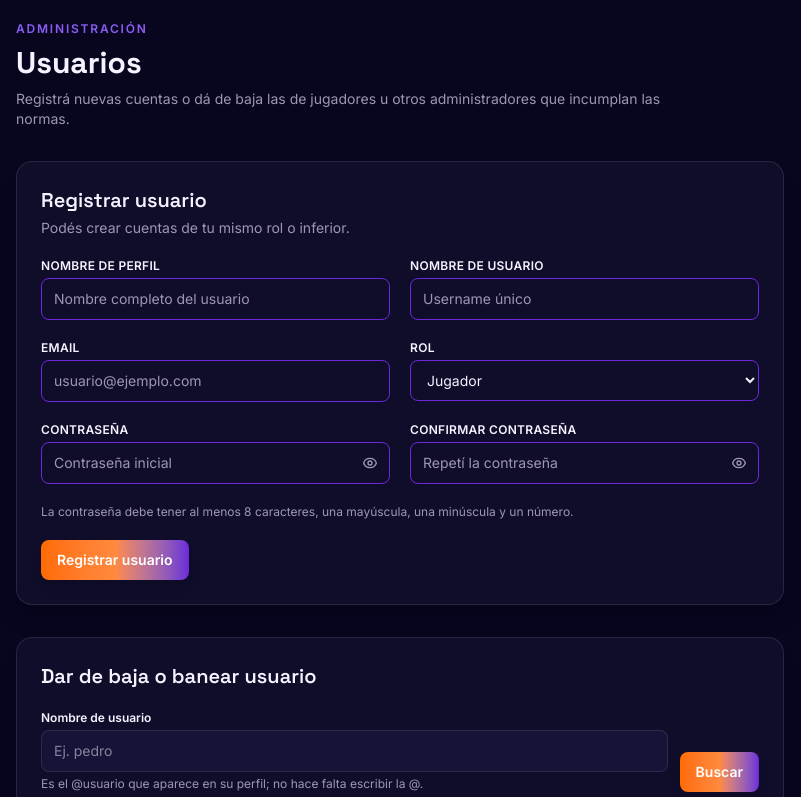
Test: UsuariosPage - US 50 Eliminar cuenta de usuario › avisa si no existe un usuario activo con ese nombre de usuario
Type "pedr" into the field labelled "Nombre de usuario" at point(354, 751), box [41, 730, 668, 772]
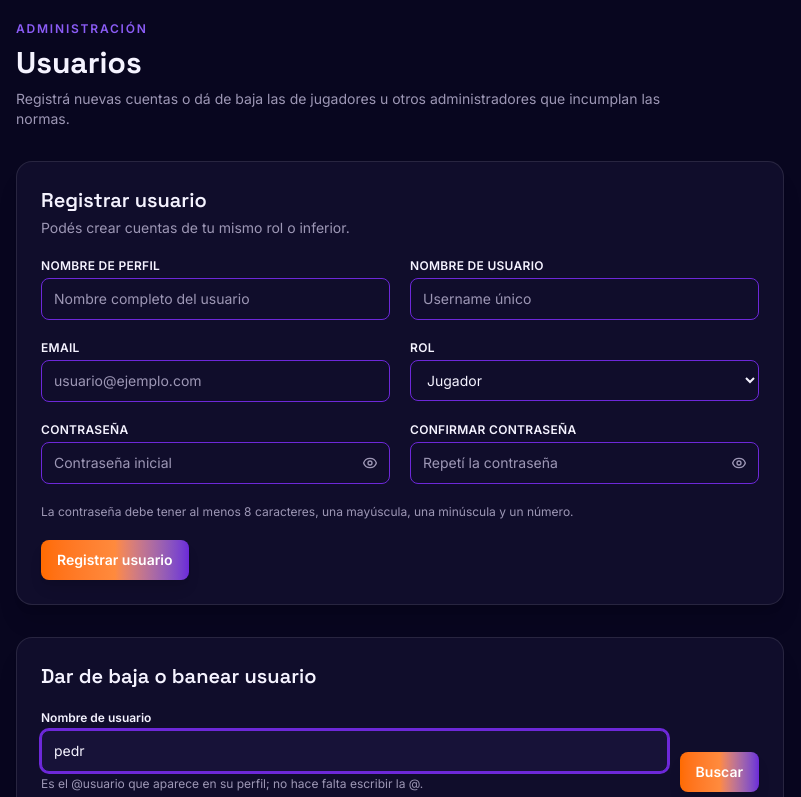
Click the button "Buscar" at point(719, 772), box [680, 752, 759, 792]
(page scrolled)
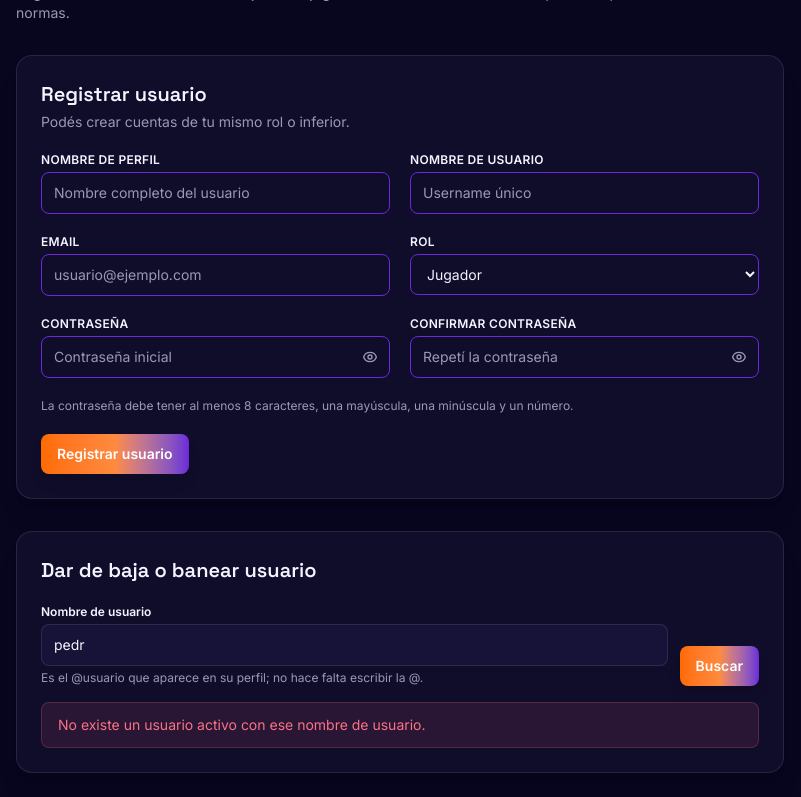
expect the text "No existe un usuario activo con ese nombre de usuario." is shown: met, box [58, 716, 426, 733]
